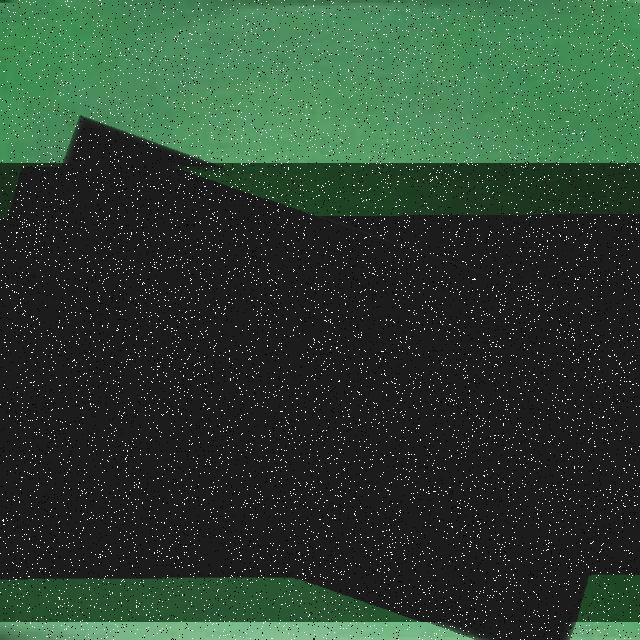dua ribu rupiah: (0, 163, 640, 622)
